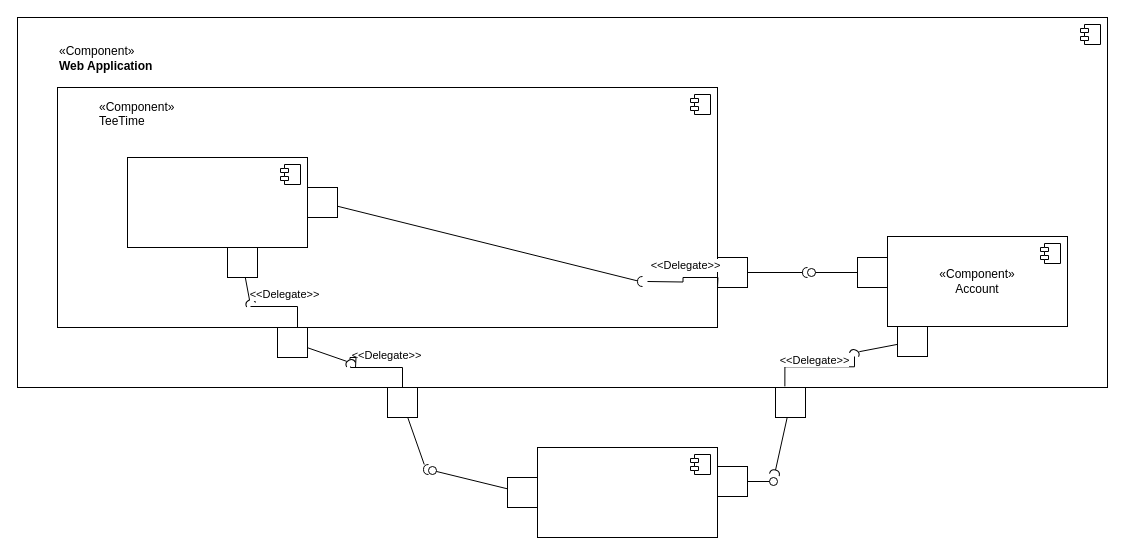
This 1125x555 diagram has some shape labels left out. The shapes that lost their labels are listed below. From the top down, each one's centre as x and y in pixels, then its label:
At pixel 217 202: "«Component» Booking System".
At pixel 627 492: "«Component» Database".
